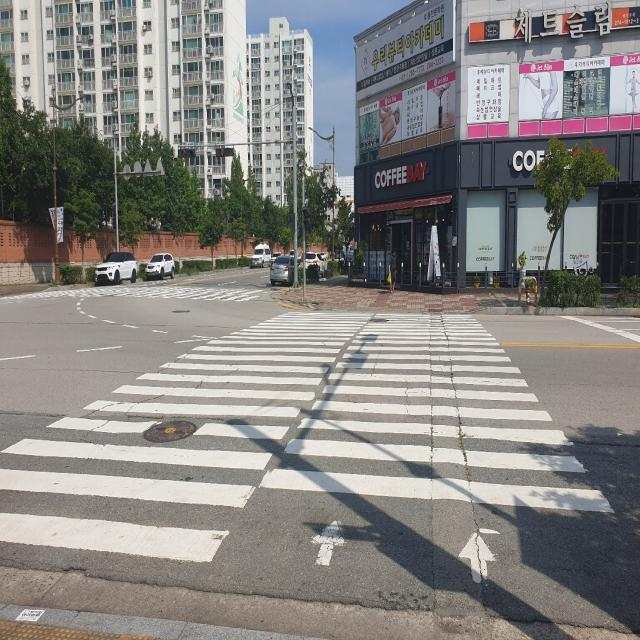횡단보도: (0, 313, 615, 583)
